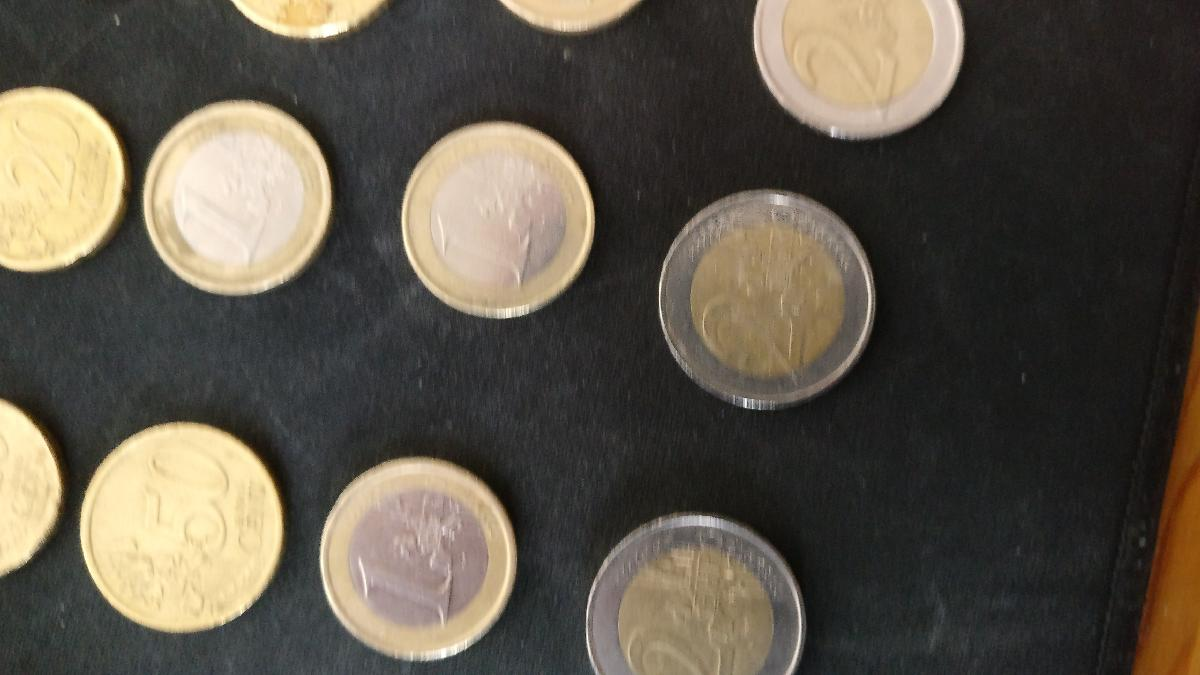Fifty Cent: (80, 420, 284, 632)
One Euro: (317, 453, 516, 656), (140, 98, 341, 296), (403, 121, 594, 321)
Twenty Cent: (1, 83, 130, 273), (1, 402, 67, 587)
Two Euro: (657, 185, 880, 411), (584, 514, 807, 675), (753, 1, 963, 137)
